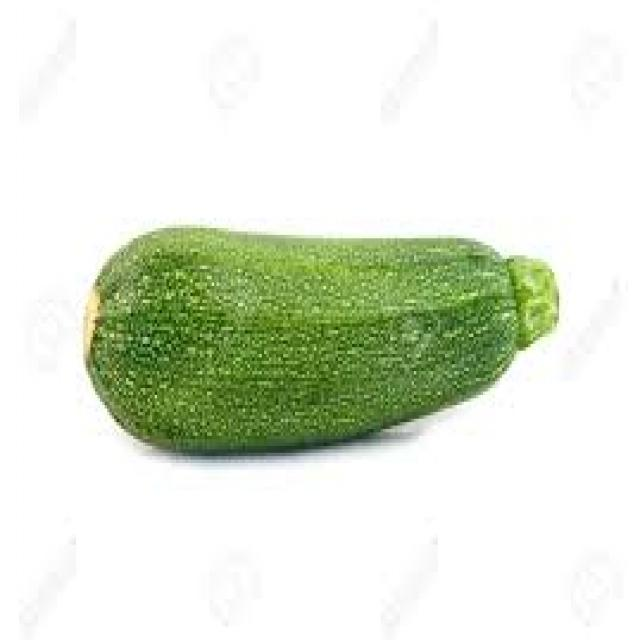organic waste: (81, 222, 554, 449)
